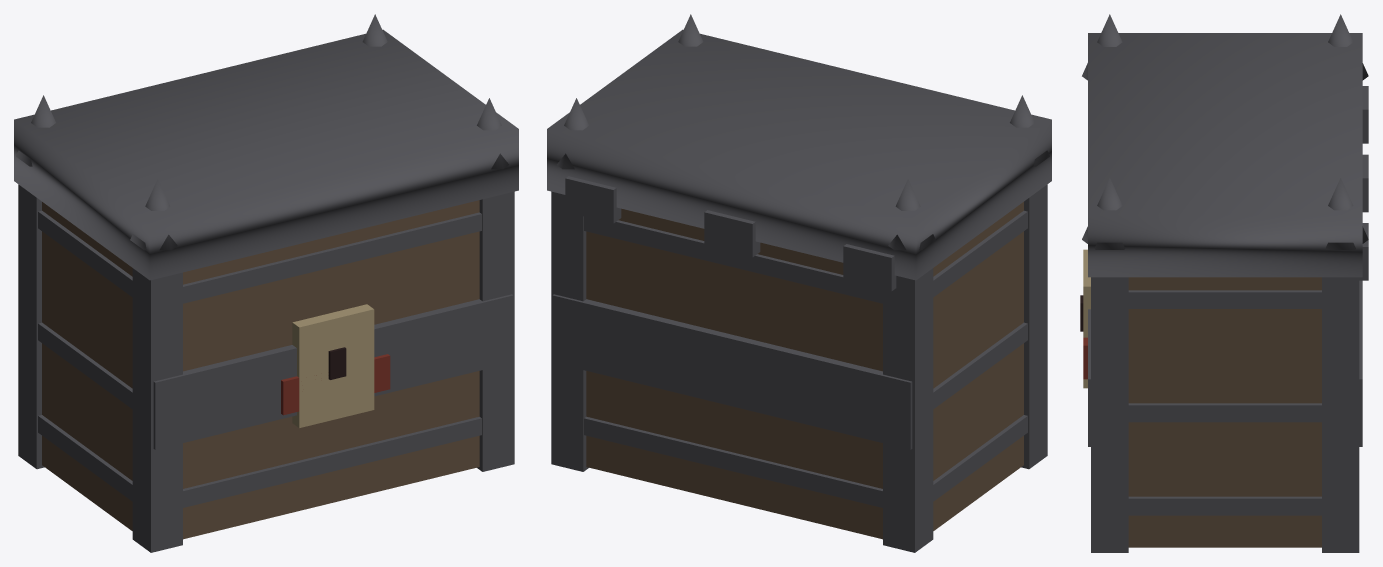
File: dark_souls_chest.glb
3 views of the same model, side by side, from view 1: azimuth 30°, elevation 25°; view 2: azimuth 150°, elevation 25°; view 3: azimuth 270°, elevation 25° (orthographic).
Parts seen in each view (by area): view 1: DSLid, DSBody, DSFront_-0.42, DSPost, DSLock, DSBand_0.88, DSBand_0.15, DSPost.002, DSPost.001, DSBand_0.48, DSBlood, DSSpike (+1 smaller); view 2: DSLid, DSBody, DSFront_0.42, DSPost.001, DSBand_0.15, DSBand_0.88, DSPost.003, DSPost, DSBand_0.48, DSHinge.001, DSHinge.002, DSHinge (+2 smaller); view 3: DSLid, DSBody, DSPost.002, DSPost.003, DSBand_0.15, DSBand_0.48, DSBand_0.88, DSSpike.003, DSSpike.002, DSFront_0.42, DSLock, DSSpike.001 (+4 smaller).
Boxes of the visible parts, x1,y1,x2,y2 form: DSLid: [14, 29, 518, 280]; DSBody: [42, 200, 479, 539]; DSFront_-0.42: [153, 294, 513, 449]; DSPost: [132, 268, 182, 552]; DSLock: [292, 304, 374, 427]; DSBand_0.88: [38, 210, 481, 303]; DSBand_0.15: [38, 415, 481, 507]; DSPost.002: [477, 191, 514, 471]; DSPost.001: [18, 184, 44, 469]; DSBand_0.48: [38, 322, 132, 408]; DSBlood: [281, 354, 390, 415]; DSSpike: [130, 179, 177, 250]; DSLid: [547, 29, 1051, 280]; DSBody: [586, 202, 1023, 539]; DSFront_0.42: [552, 294, 912, 449]; DSPost.001: [883, 268, 933, 552]; DSBand_0.15: [584, 415, 1027, 507]; DSBand_0.88: [584, 210, 1027, 303]; DSPost.003: [551, 191, 588, 471]; DSPost: [1021, 184, 1047, 469]; DSBand_0.48: [933, 322, 1027, 408]; DSHinge.001: [704, 210, 760, 257]; DSHinge.002: [565, 176, 621, 223]; DSHinge: [843, 244, 896, 291]; DSLid: [1088, 33, 1362, 277]; DSBody: [1128, 277, 1321, 547]; DSPost.002: [1091, 277, 1128, 552]; DSPost.003: [1322, 277, 1359, 552]; DSBand_0.15: [1128, 496, 1321, 515]; DSBand_0.48: [1128, 403, 1321, 422]; DSBand_0.88: [1128, 290, 1321, 308]; DSSpike.003: [1325, 178, 1368, 249]; DSSpike.002: [1082, 178, 1124, 249]; DSFront_0.42: [1359, 280, 1362, 446]; DSLock: [1083, 249, 1090, 388]; DSSpike.001: [1328, 14, 1368, 80].
Bounding box in the file's own units: 1.4 × 1.3 × 0.925.
